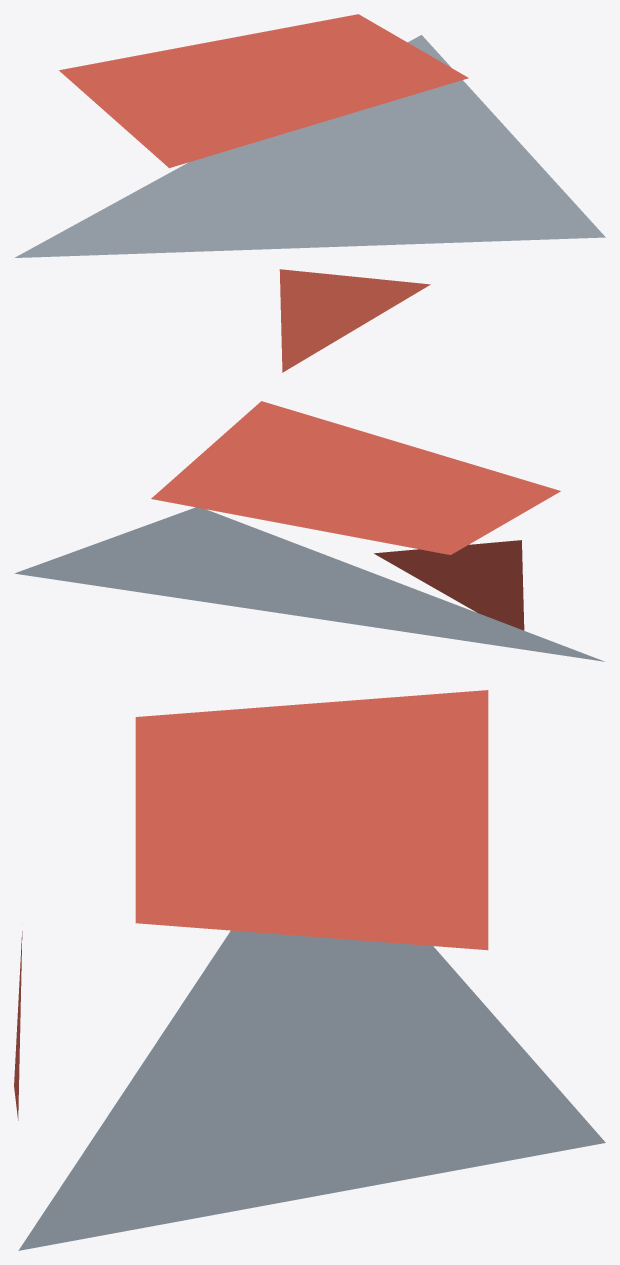
Rendered from SU_VoevodaHeavyTank_LOD2.glb.
The picture shows the model from 3 angles, top to bottom: view 1: azimuth 30°, elevation 25°; view 2: azimuth 150°, elevation 25°; view 3: azimuth 270°, elevation 25°; orthographic projection. The views are drawn at different scales.
Visible parts, largest first — view 1: EntranceGate; view 2: EntranceGate; view 3: EntranceGate.
Boxes of the visible parts, box(x1,y1,x2,y2) form: EntranceGate: box(15, 14, 605, 372); EntranceGate: box(14, 401, 605, 661); EntranceGate: box(14, 690, 605, 1250).
Size of the model in its own units: 720 by 292 by 463.
